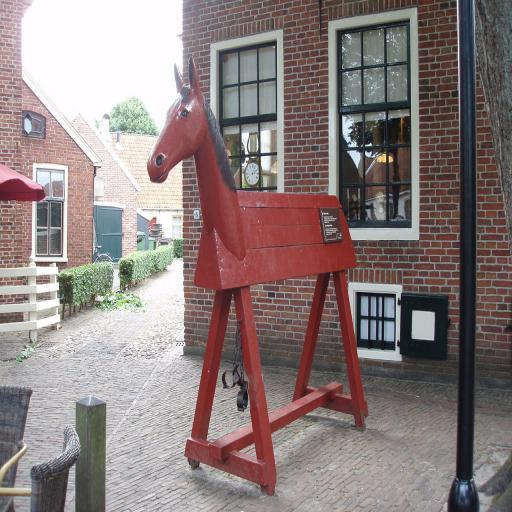Horse: (146, 52, 250, 260)
